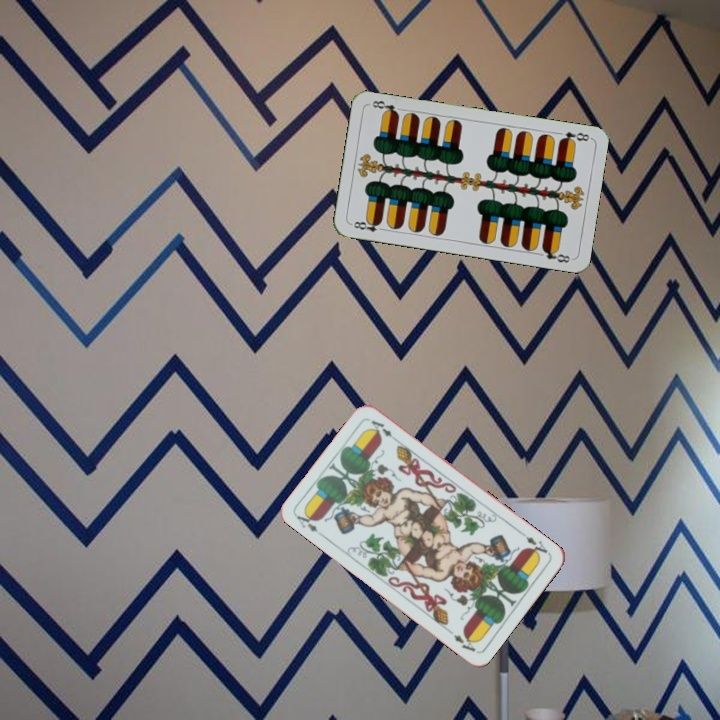E8: (347, 216, 388, 234), (555, 128, 593, 146)
EA: (292, 508, 327, 540), (516, 528, 552, 559)
